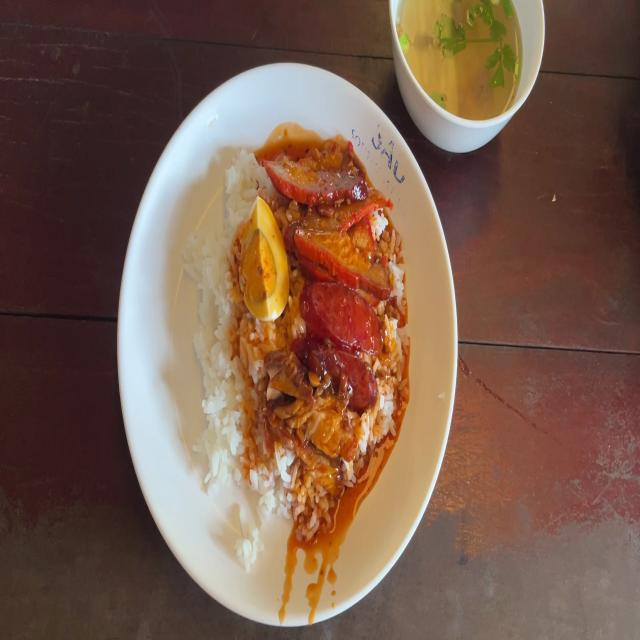01boiled_egg: (242, 198, 284, 318)
01chainese_sausage: (297, 284, 385, 398), (298, 285, 383, 345), (312, 352, 376, 405)
01crispy_pork: (284, 403, 352, 489)
01red_pork: (285, 156, 395, 282)
01red_pork_and_crispy_pork: (182, 145, 400, 516)
01rice: (197, 332, 265, 528), (184, 206, 234, 326), (225, 159, 270, 202)
